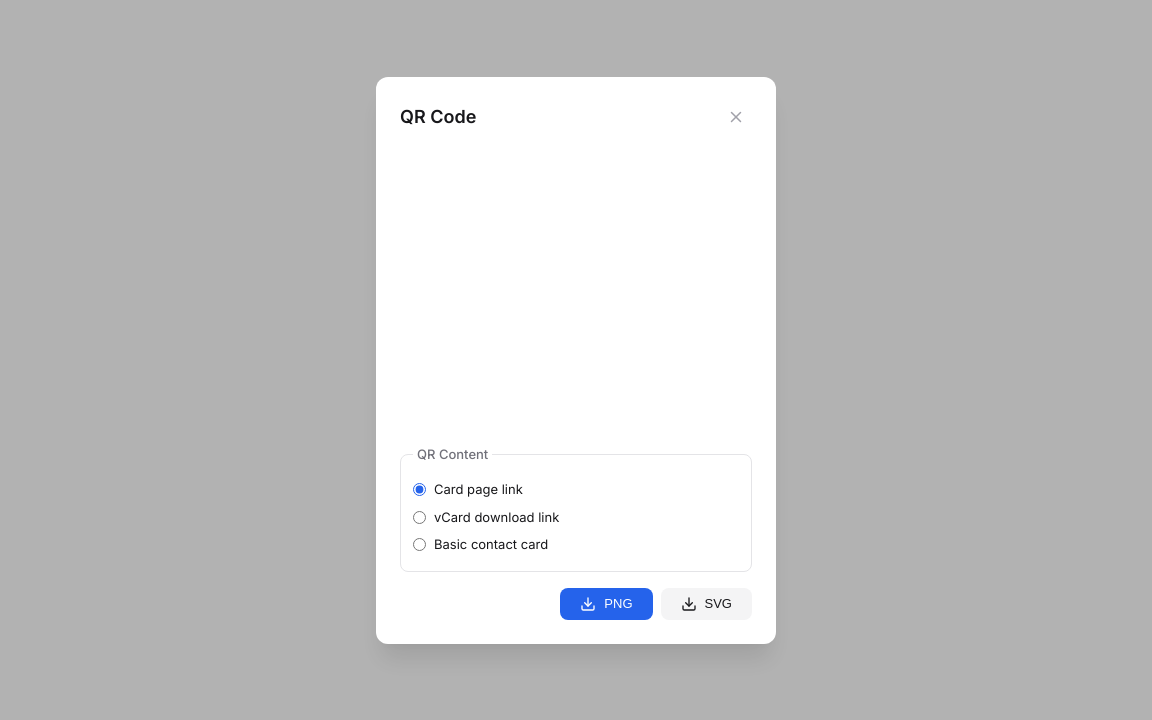
Test: QrModal › shows hint text when vcard-inline mode is selected
Click the radio button labelled "Basic contact card" at (420, 545), box [413, 538, 426, 551]
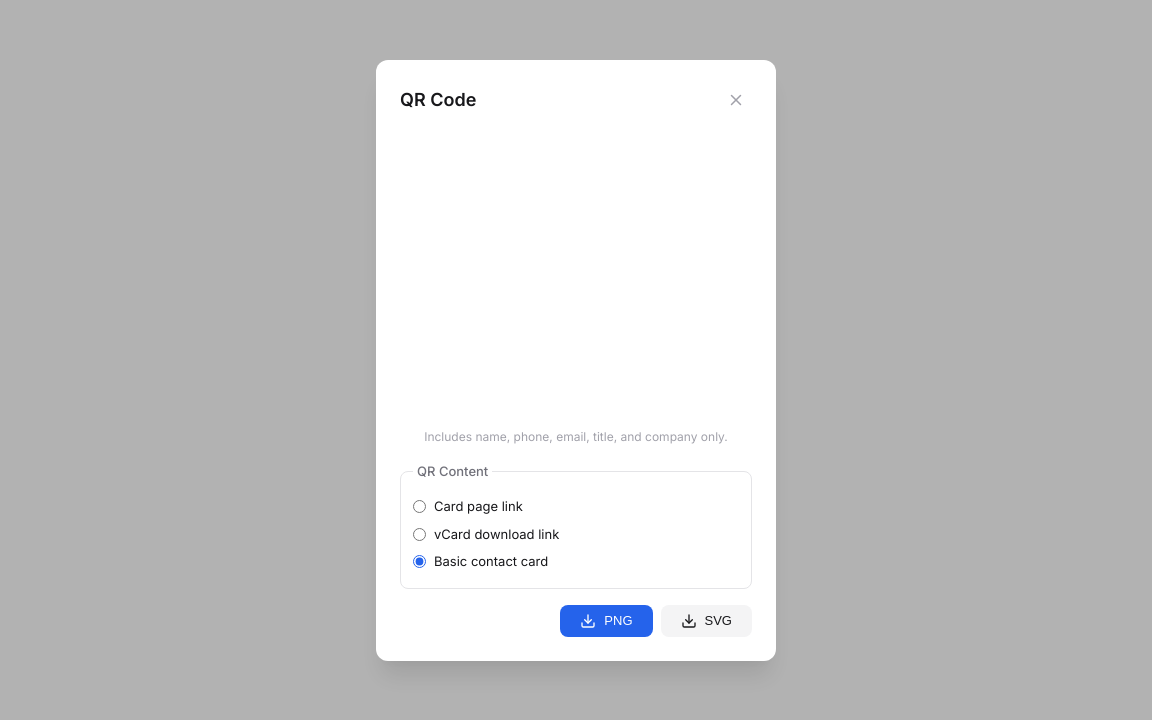
Expected: the text "Includes name, phone, email, title, and company only." is shown, [400, 428, 752, 446]
